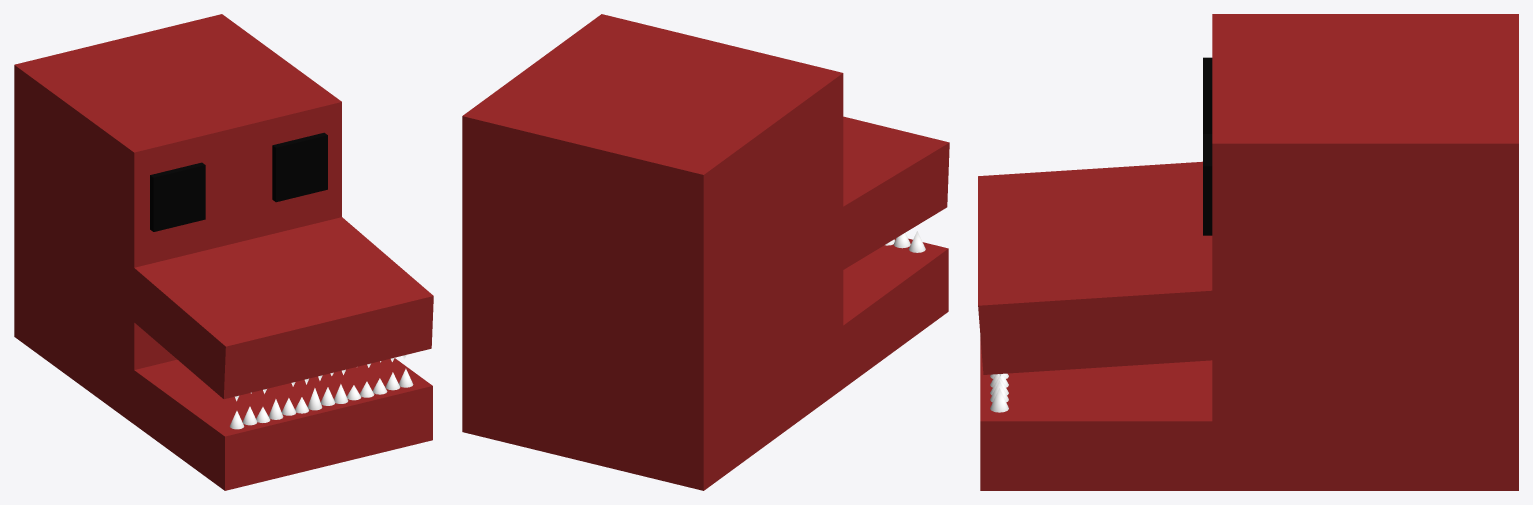
The model's file is firstscene.fbx.
3 views of the same model, side by side, from view 1: azimuth 30°, elevation 25°; view 2: azimuth 150°, elevation 25°; view 3: azimuth 270°, elevation 25° (orthographic). The views are drawn at different scales.
Parts seen in each view (by area): view 1: Box2, Box1, Box, Box4, Box3; view 2: Box2, Box1, Box; view 3: Box2, Box1, Box, Box4, Box3.
Part boxes in pixels (<box>): Box2: <box>14,14,341,424</box>; Box1: <box>104,217,433,399</box>; Box: <box>134,358,432,490</box>; Box4: <box>272,132,327,202</box>; Box3: <box>150,162,205,231</box>; Box2: <box>462,14,843,490</box>; Box1: <box>808,116,949,290</box>; Box: <box>809,238,948,413</box>; Box2: <box>1212,14,1518,490</box>; Box1: <box>978,161,1289,374</box>; Box: <box>980,337,1286,490</box>; Box4: <box>1203,134,1212,235</box>; Box3: <box>1203,57,1212,133</box>.
Bounding box in the file's own units: 4 × 5 × 7.06.
